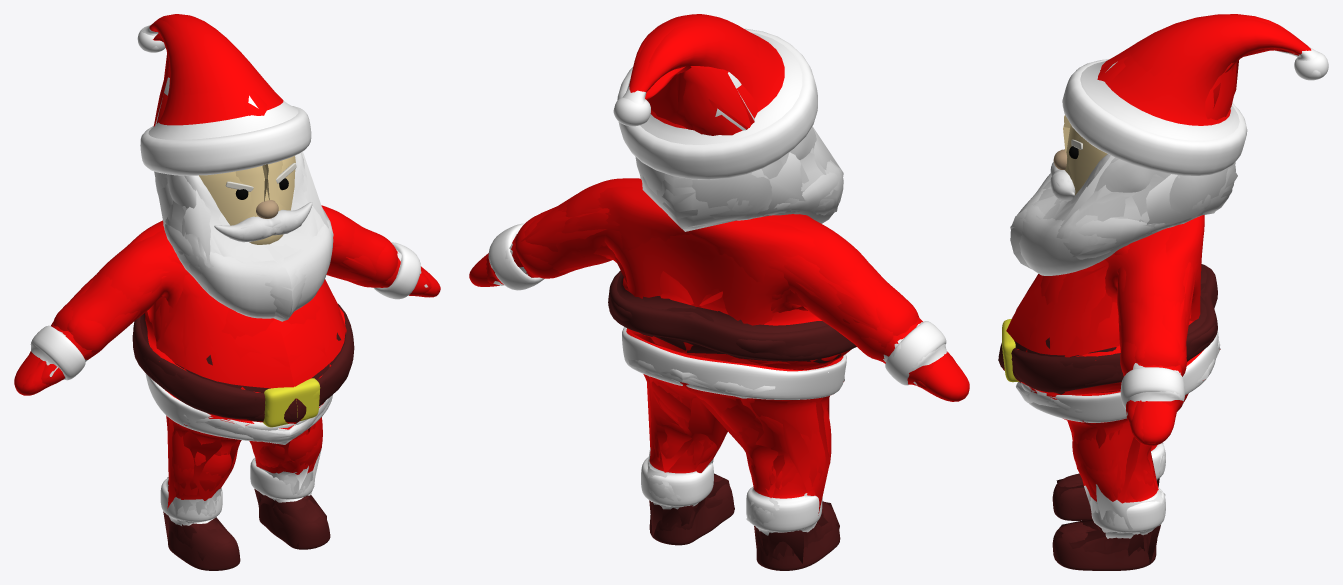
The model's file is santa_claus.fbx.
The picture shows the model from 3 angles, left to right: view 1: azimuth 30°, elevation 25°; view 2: azimuth 150°, elevation 25°; view 3: azimuth 270°, elevation 25°; orthographic projection. The views are drawn at different scales.
Parts seen in each view (by area): view 1: body.003, body.001, hat.001, body.002, legs.001, beard.001, hat.002, legs.002, beard.002, legs.004, body.004, legs.003 (+7 smaller); view 2: body.001, legs.001, body.002, hat.001, hat.002, legs.004, legs.002, body.003, legs.003, beard.001, hat.003, body.004 (+4 smaller); view 3: hat.001, body.001, hat.002, legs.001, body.002, beard.001, body.003, legs.002, beard.002, legs.004, body.004, legs.003 (+6 smaller).
Part boxes in pixels (box(x1,y1,x2,y2)): body.003: box(41, 250, 431, 423); body.001: box(14, 205, 439, 414); hat.001: box(137, 14, 311, 175); body.002: box(16, 217, 440, 419); legs.001: box(145, 373, 332, 570); beard.001: box(155, 167, 333, 318); hat.002: box(141, 15, 298, 139); legs.002: box(167, 396, 331, 547); beard.002: box(162, 152, 331, 319); legs.004: box(152, 383, 327, 560); body.004: box(46, 251, 430, 423); legs.003: box(167, 397, 330, 555); body.001: box(469, 178, 969, 401); legs.001: box(622, 327, 846, 570); body.002: box(486, 186, 969, 400); hat.001: box(614, 14, 817, 179); hat.002: box(613, 22, 802, 144); legs.004: box(628, 359, 844, 563); legs.002: box(631, 360, 832, 560); body.003: box(487, 207, 955, 389); legs.003: box(627, 359, 834, 558); beard.001: box(635, 127, 843, 223); hat.003: box(645, 66, 758, 135); body.004: box(491, 208, 947, 386); hat.001: box(1062, 15, 1328, 175); body.001: box(1012, 226, 1217, 446); hat.002: box(1080, 14, 1320, 140); legs.001: box(1021, 330, 1218, 570); body.002: box(1011, 215, 1215, 445); beard.001: box(1019, 159, 1227, 275); body.003: box(998, 259, 1205, 423); legs.002: box(1016, 339, 1219, 553); beard.002: box(1010, 154, 1235, 269); legs.004: box(1018, 347, 1220, 564); body.004: box(998, 262, 1205, 420); legs.003: box(1016, 339, 1220, 554).
Bounding box in the file's own units: 1091 × 1185 × 685.
